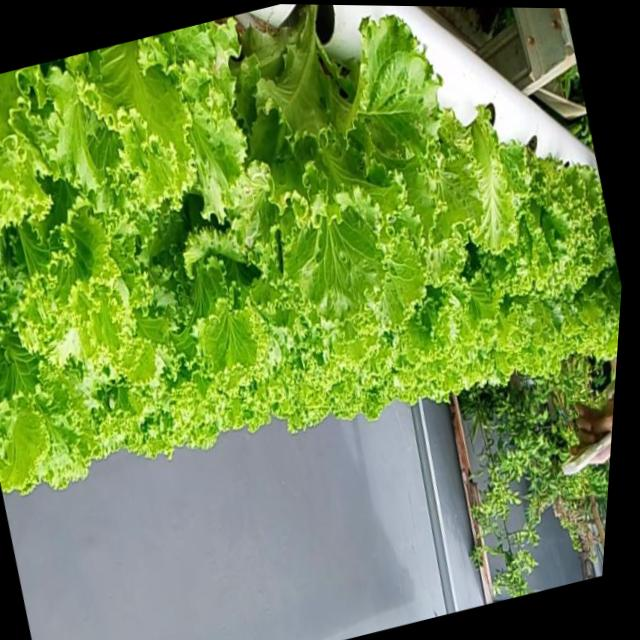Mature: (0, 6, 618, 499), (215, 20, 416, 316), (448, 132, 607, 336)
